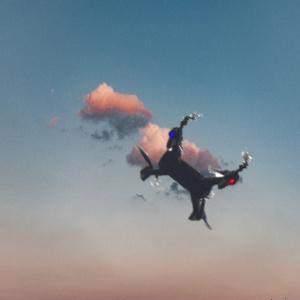drone: (83, 68, 290, 275)
